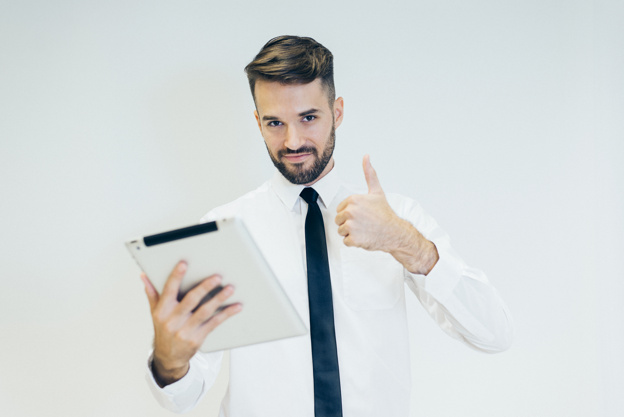thumbsup: (335, 154, 377, 248)
